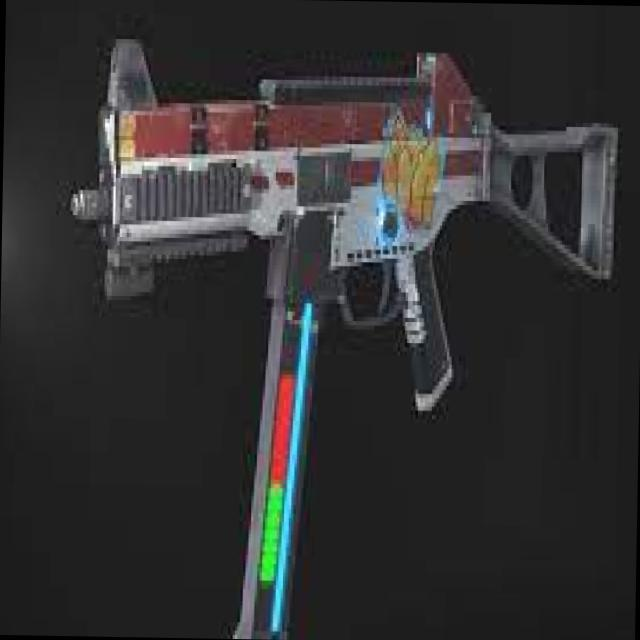Gun: (60, 7, 640, 640)
